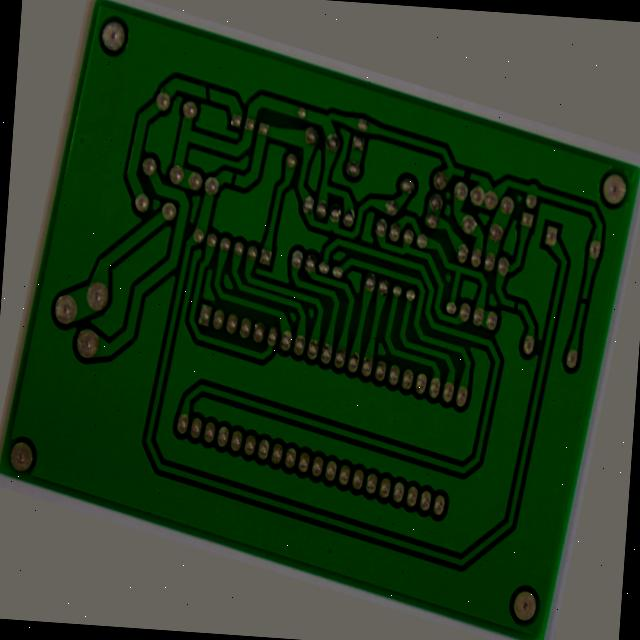open_circuit: (156, 63, 176, 88), (199, 159, 212, 185), (524, 233, 539, 253), (453, 89, 468, 106), (599, 209, 612, 226)
